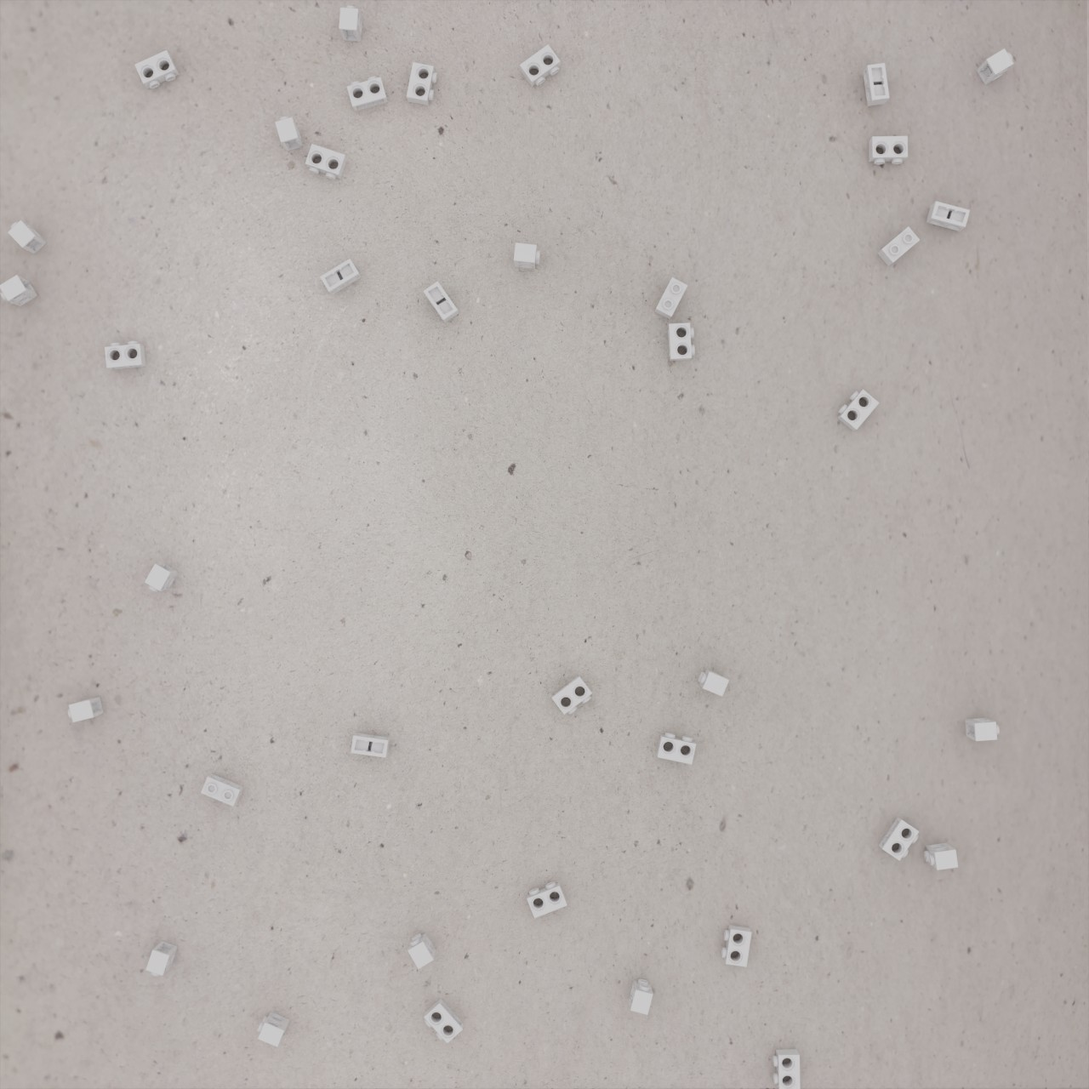lego: (424, 998, 464, 1044), (878, 817, 919, 861), (837, 389, 879, 431), (877, 226, 920, 267), (134, 50, 179, 89), (520, 44, 560, 87), (551, 675, 592, 715), (320, 258, 362, 295), (423, 281, 459, 323), (305, 144, 347, 180), (527, 881, 567, 918), (347, 76, 388, 112), (654, 277, 688, 320), (201, 773, 244, 806), (976, 48, 1014, 85), (8, 220, 47, 255), (406, 62, 437, 106), (656, 732, 696, 765), (926, 201, 970, 231), (721, 925, 752, 967), (0, 275, 38, 307), (105, 341, 146, 370), (863, 63, 890, 106), (257, 1012, 290, 1047), (869, 136, 908, 165), (146, 941, 178, 976), (773, 1049, 800, 1089), (667, 323, 695, 361), (275, 116, 304, 152), (144, 563, 179, 592), (408, 933, 436, 969), (351, 733, 390, 758), (68, 696, 104, 722), (924, 843, 958, 870), (628, 979, 653, 1015), (698, 669, 729, 697), (339, 5, 362, 42), (965, 718, 999, 741), (514, 243, 540, 269)
